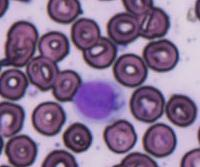L: (71, 78, 128, 124)
